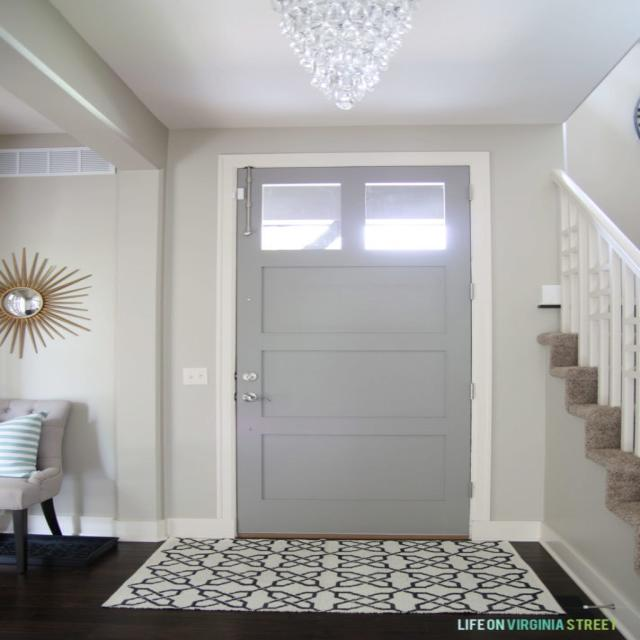door: (216, 152, 490, 540)
